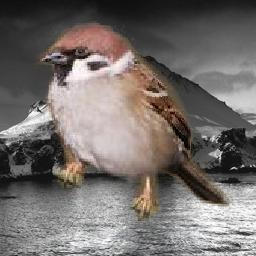Sparrow: (36, 21, 235, 221)
